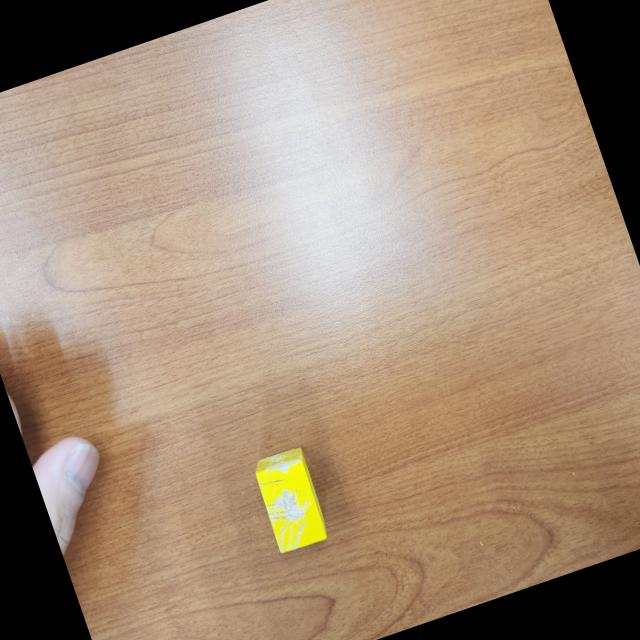broken: (250, 445, 332, 555)
